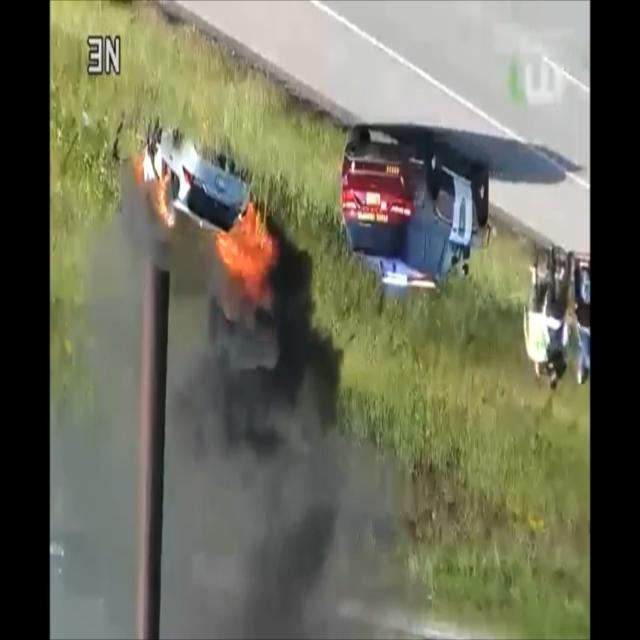fire: (218, 211, 278, 301), (126, 148, 186, 228)
